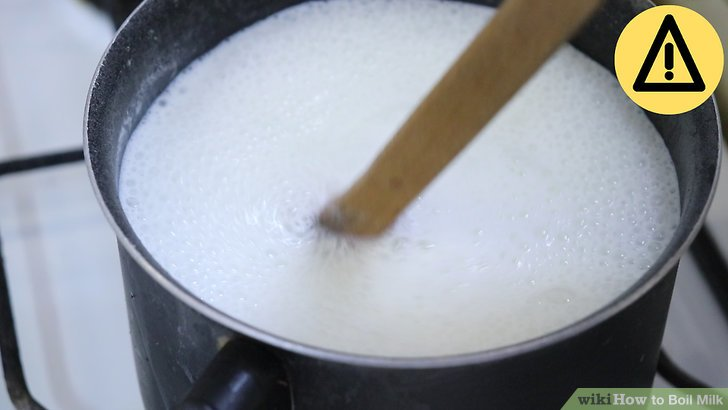Steaming: (124, 7, 685, 373)
